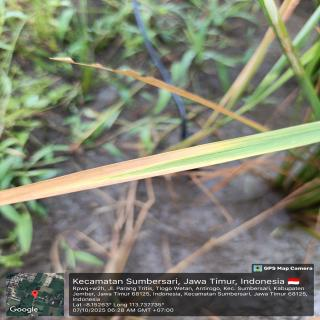Hawar-Daun: (0, 140, 233, 205)
